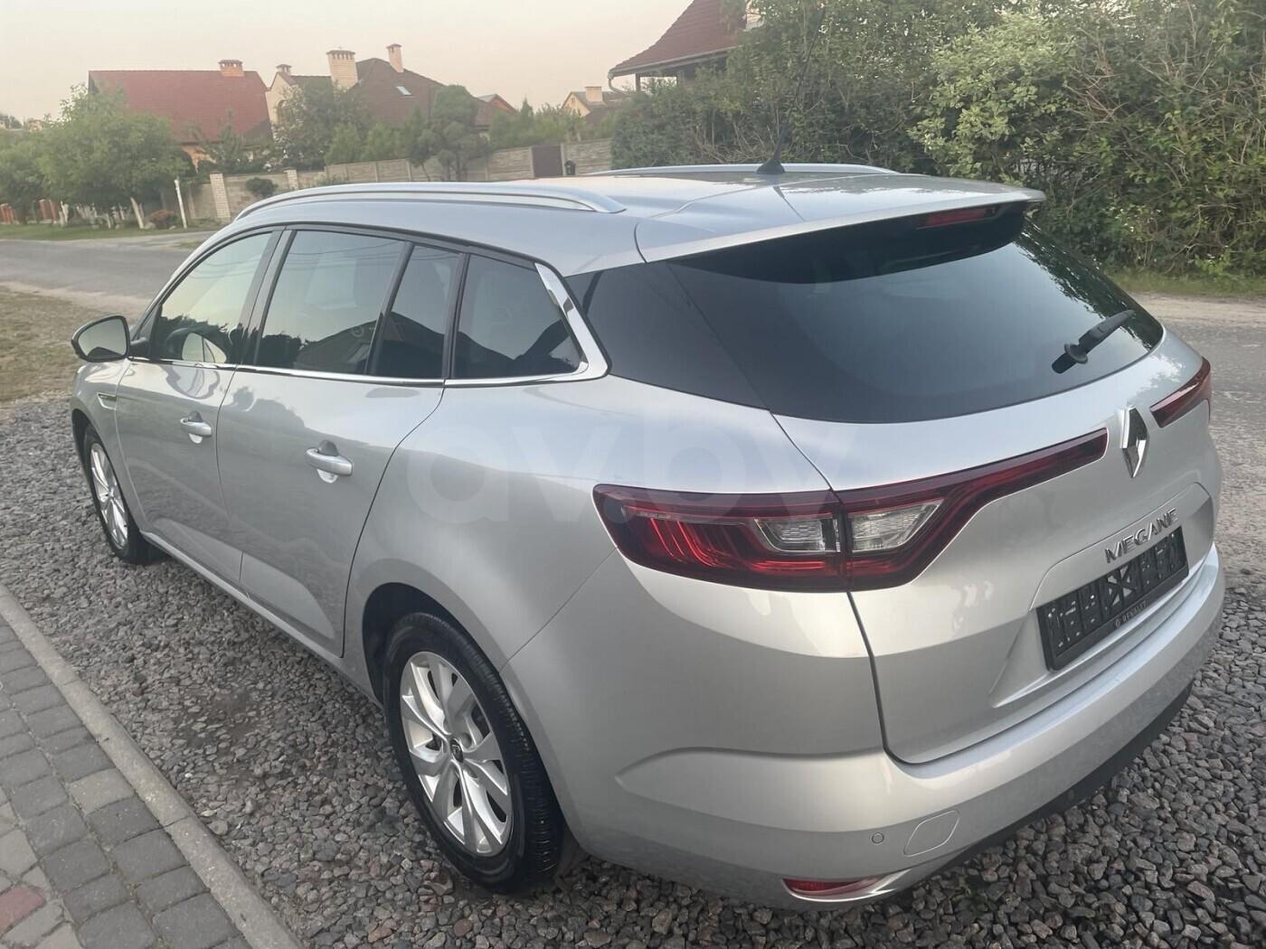Megane_2016-2020: (59, 160, 1231, 912)
